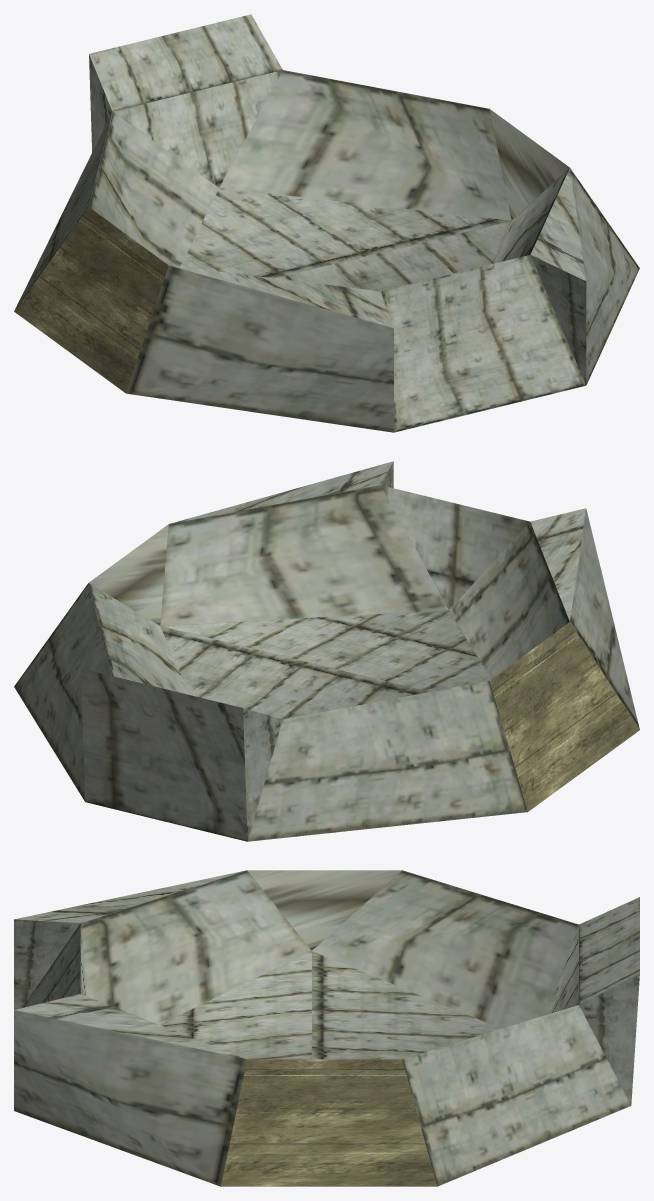
The model's file is ins_all_flora_farm_turntable_s01_u0_l2.fbx.
3 renders of one model, top to bottom at view 1: azimuth 30°, elevation 25°; view 2: azimuth 150°, elevation 25°; view 3: azimuth 270°, elevation 25°, orthographic. The views are drawn at different scales.
Parts seen in each view (by area): view 1: mesh_node; view 2: mesh_node; view 3: mesh_node.
Boxes of the visible parts, x1,y1,x2,y2 form: mesh_node: [14, 14, 639, 432]; mesh_node: [14, 461, 639, 841]; mesh_node: [14, 870, 639, 1186].
Bounding box in the file's own units: 7.73 × 1.97 × 8.44.
